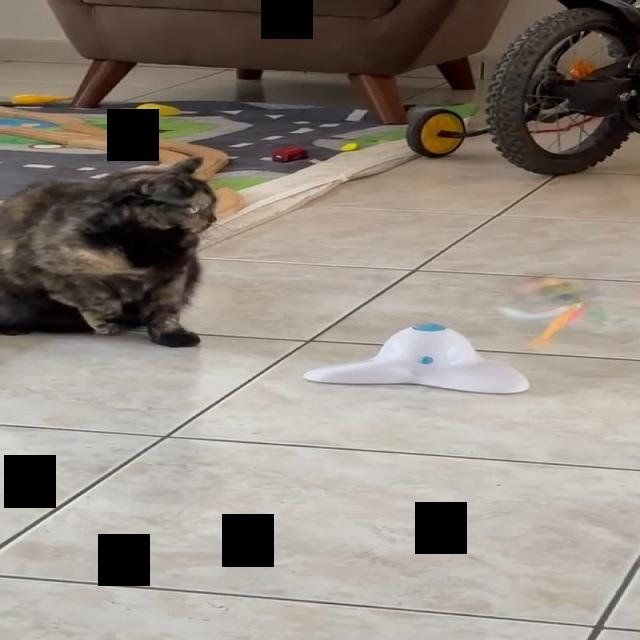authorized: (0, 155, 217, 347)
